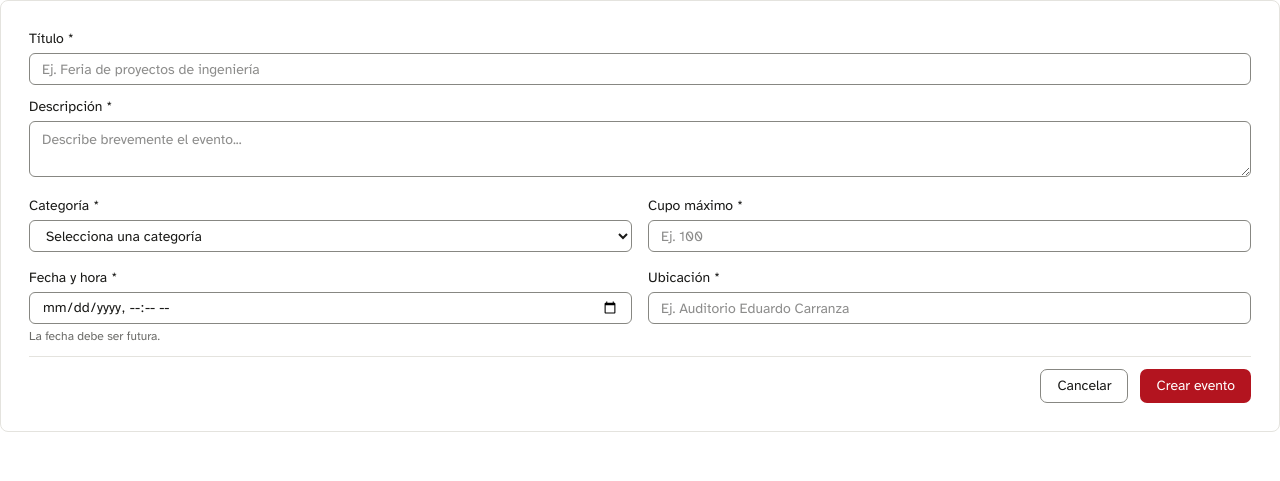
Scenario: FormularioEvento › crear (HU-05) › muestra el error del backend si no se pudo crear
The width and height of the screenshot is (1280, 481).
Type "Feria" into the field labelled "Título *".
click(640, 69); type("Feria")  # box x1=29 y1=53 x2=1251 y2=85
Type "Proyectos" into the text box labelled "Descripción *".
click(640, 149); type("Proyectos")  # box x1=29 y1=121 x2=1251 y2=177
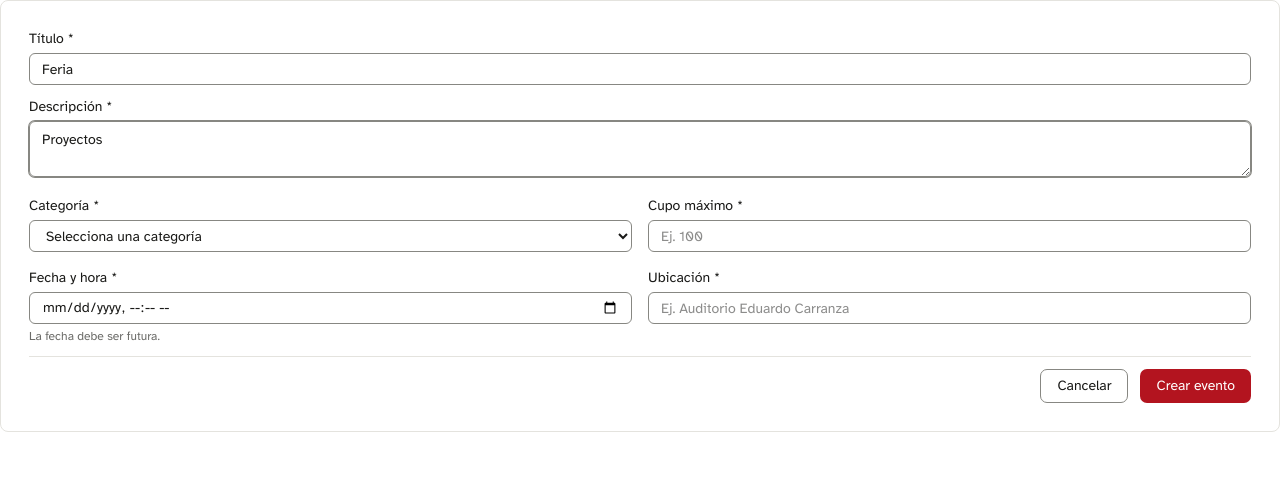
Type "2099-10-20T14:30" into the field labelled "Fecha y hora *".
click(330, 308); type("2099-10-20T14:30")  # box x1=29 y1=292 x2=632 y2=324
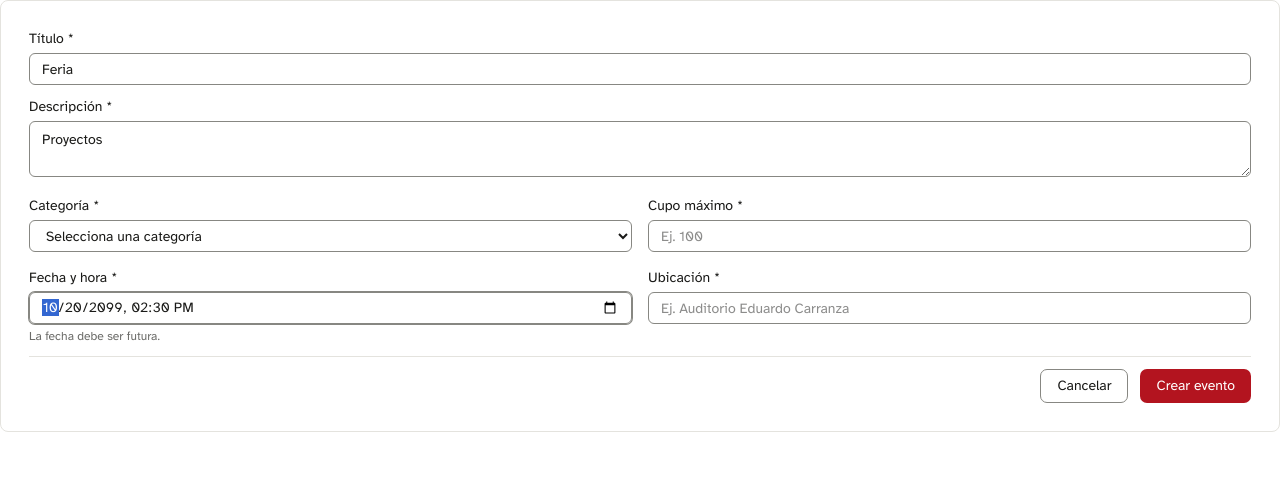
Type "Auditorio" into the field labelled "Ubicación *".
click(950, 308); type("Auditorio")  # box x1=648 y1=292 x2=1251 y2=324
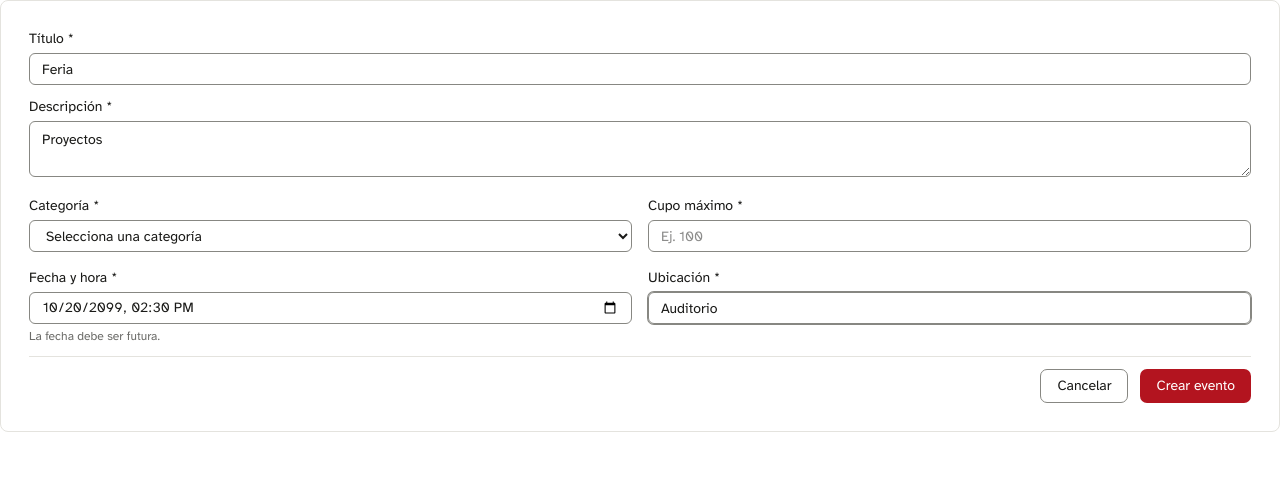
Type "50" into the number field labelled "Cupo máximo *".
click(950, 236); type("50")  # box x1=648 y1=220 x2=1251 y2=252
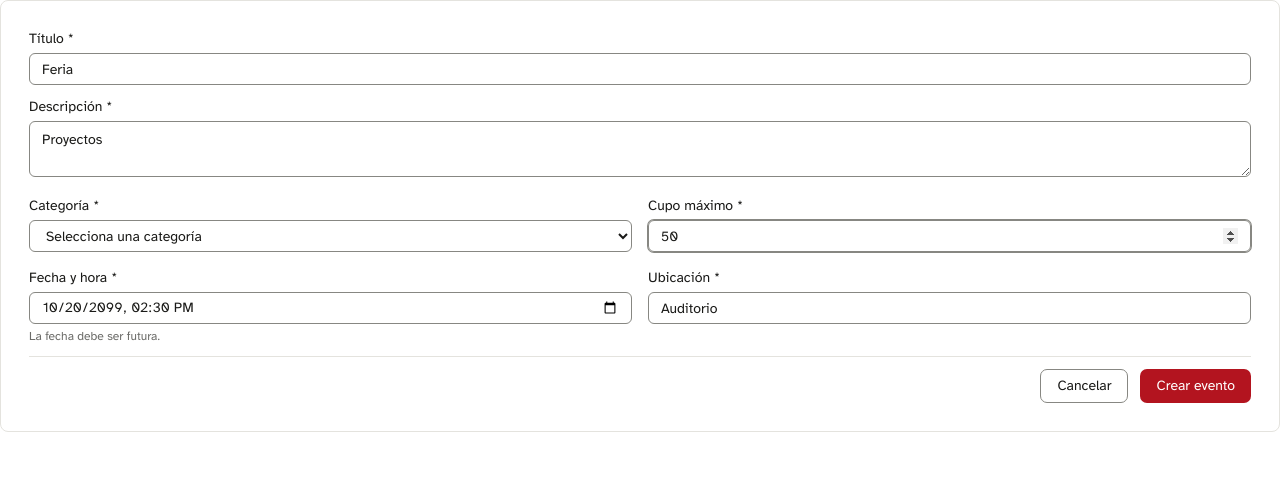
Select "Cultural" in the dropdown labelled "Categoría *" at (330, 236), box x1=29 y1=220 x2=632 y2=252
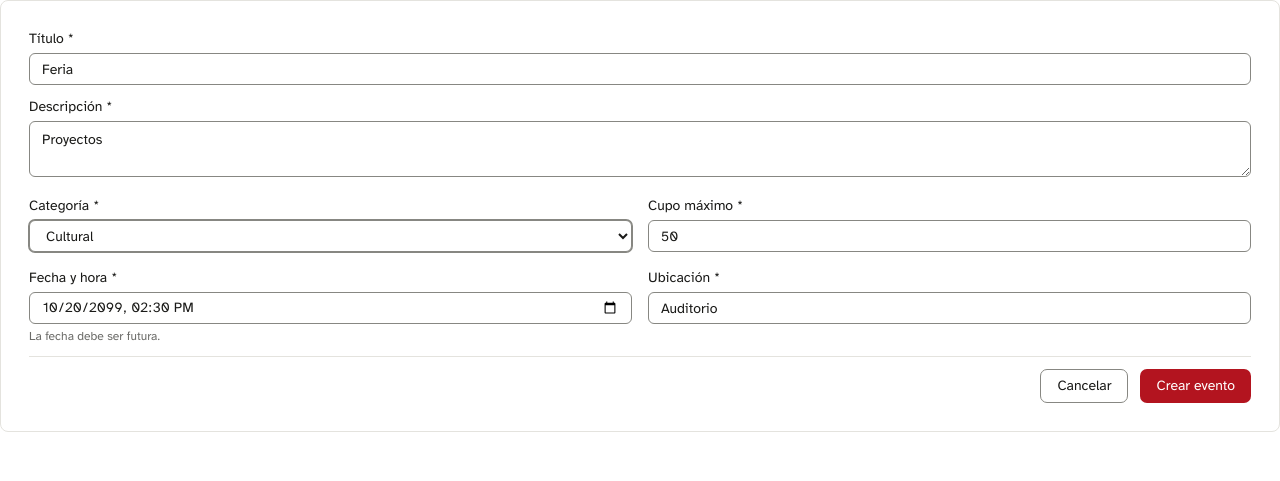
Click the button "Crear evento".
click(1196, 386)  # box x1=1140 y1=369 x2=1251 y2=403
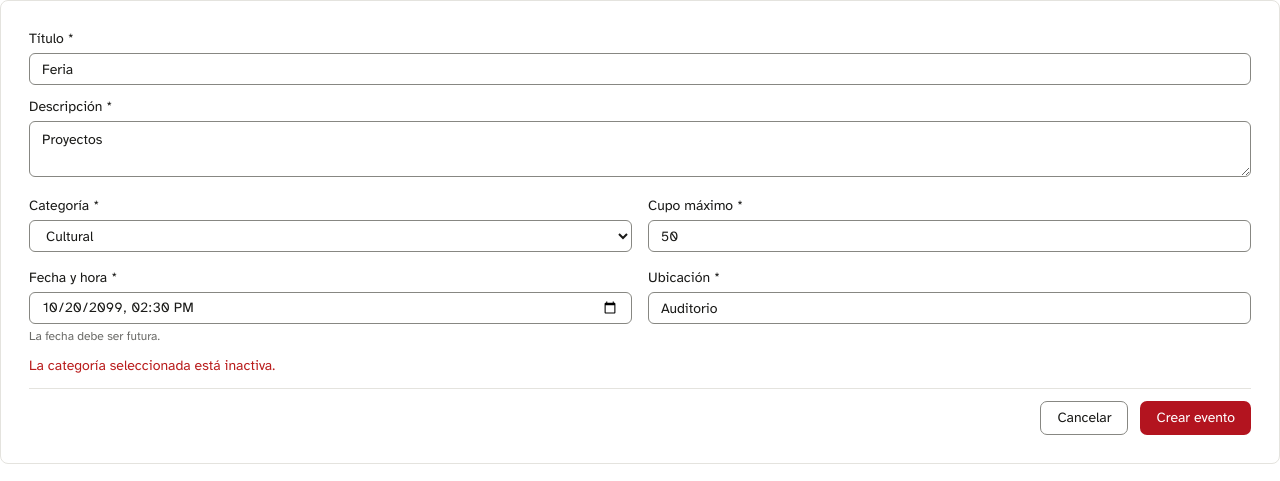
Check: the message reads "La categoría seleccionada está inactiva.", box x1=29 y1=357 x2=275 y2=374
